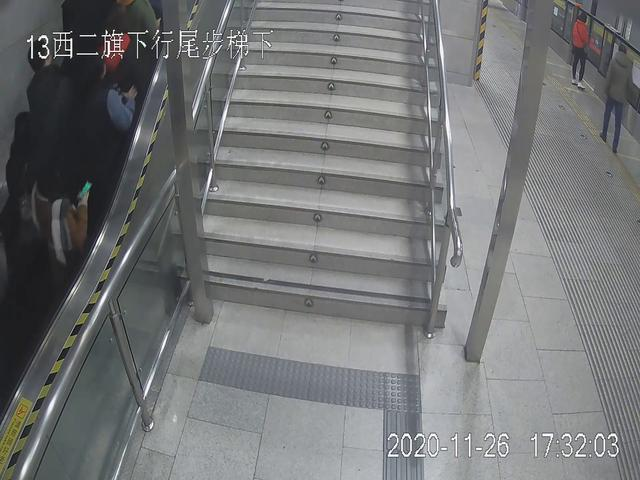person: (598, 41, 631, 154), (567, 8, 593, 88)
